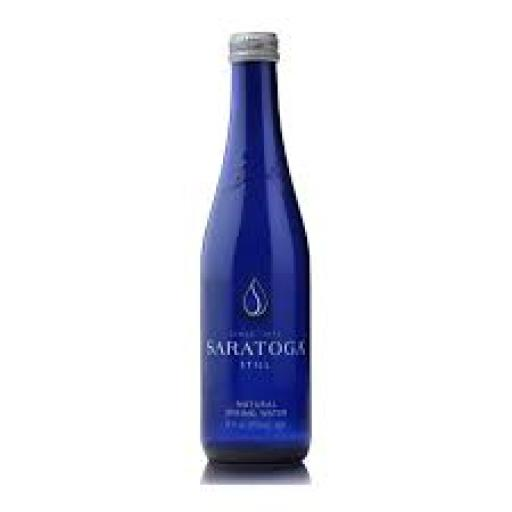blue-bottle: (200, 32, 309, 462)
